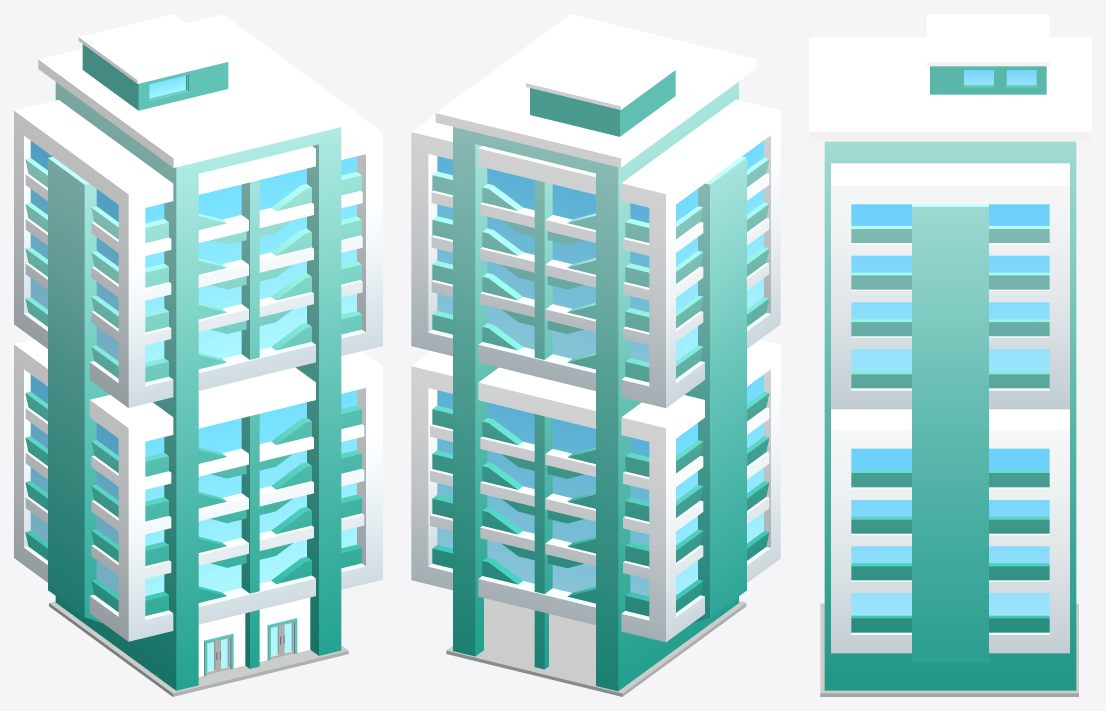
File: Building_Living_56.glb
The picture shows the model from 3 angles, left to right: view 1: azimuth 30°, elevation 25°; view 2: azimuth 150°, elevation 25°; view 3: azimuth 270°, elevation 25°; orthographic projection. The views are drawn at different scales.
Visible parts, largest first — view 1: Building_Living_56; view 2: Building_Living_56; view 3: Building_Living_56.
Boxes of the visible parts, x1,y1,x2,y2 form: Building_Living_56: [14, 14, 382, 696]; Building_Living_56: [411, 14, 780, 696]; Building_Living_56: [809, 14, 1091, 696].
Bounding box in the file's own units: 18.19 × 37.86 × 16.12.
1 material, 1 textured.
